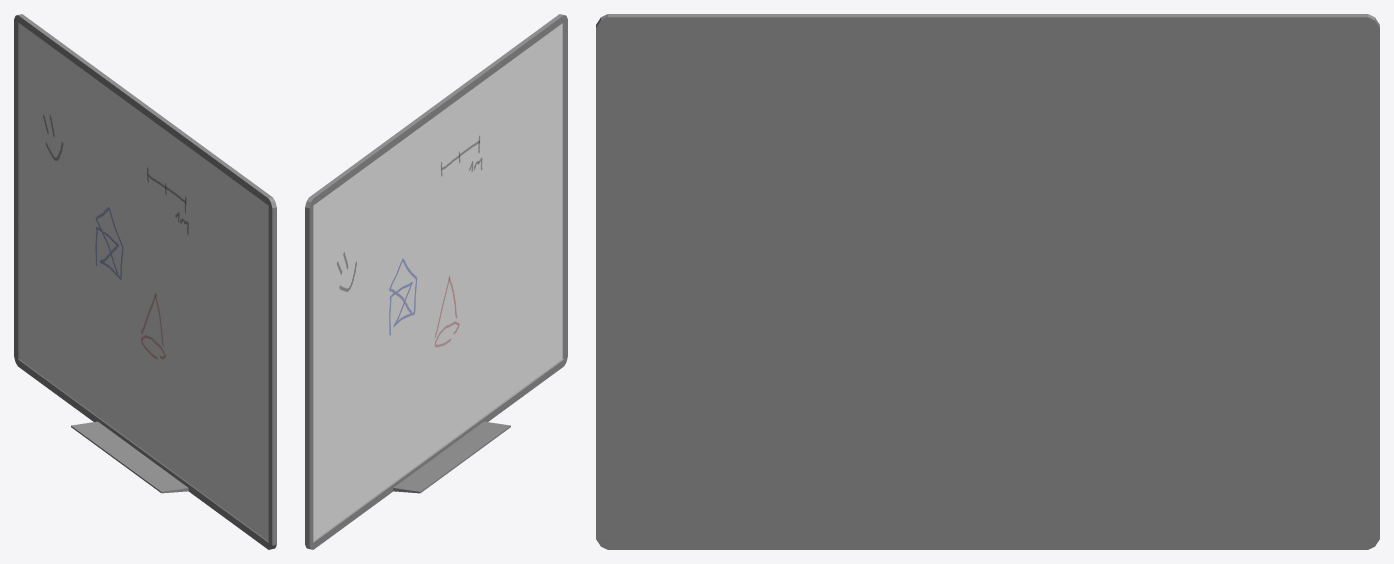
File: Whiteboard.fbx
3 views of the same model, side by side, from view 1: azimuth 30°, elevation 25°; view 2: azimuth 150°, elevation 25°; view 3: azimuth 270°, elevation 25° (orthographic). The views are drawn at different scales.
Visible parts, largest first — view 1: Plane, Frame; view 2: Plane, Frame; view 3: Frame.
Part boxes in pixels (x1,y1,x2,y2): Plane: [19, 23, 268, 540]; Frame: [14, 14, 276, 549]; Plane: [313, 23, 562, 540]; Frame: [305, 14, 567, 549]; Frame: [596, 14, 1379, 549].
Bounding box in the file's own units: 14.09 × 150 × 200.
2 materials, 1 textured.
